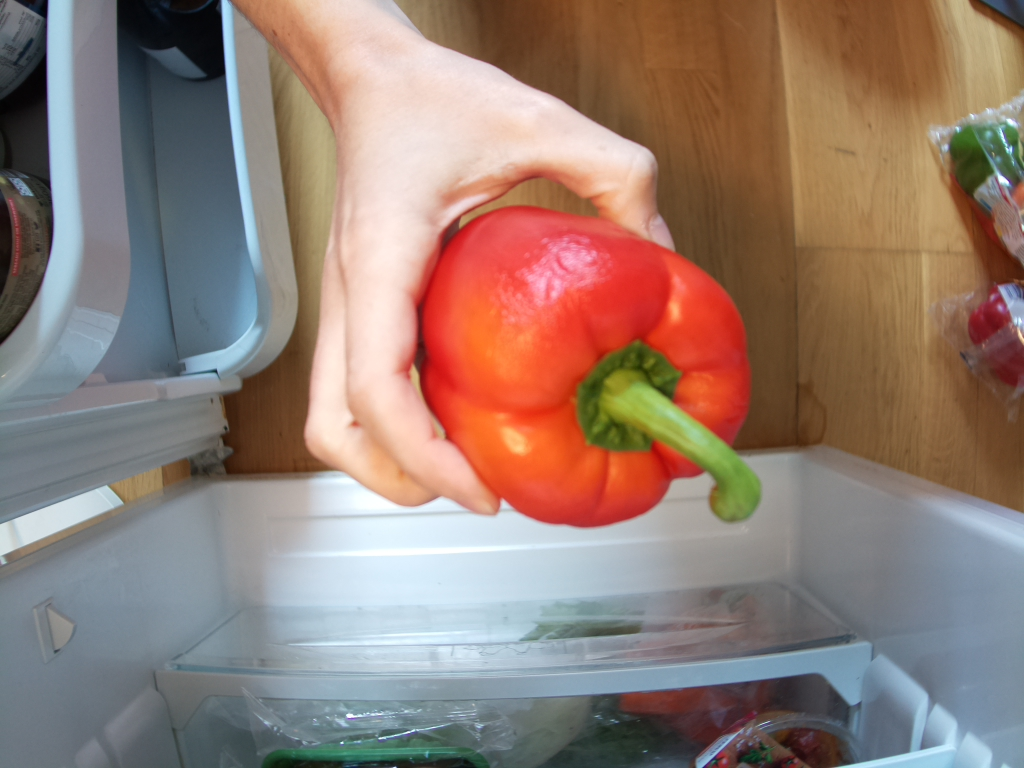pepper-bad: (413, 202, 769, 537)
